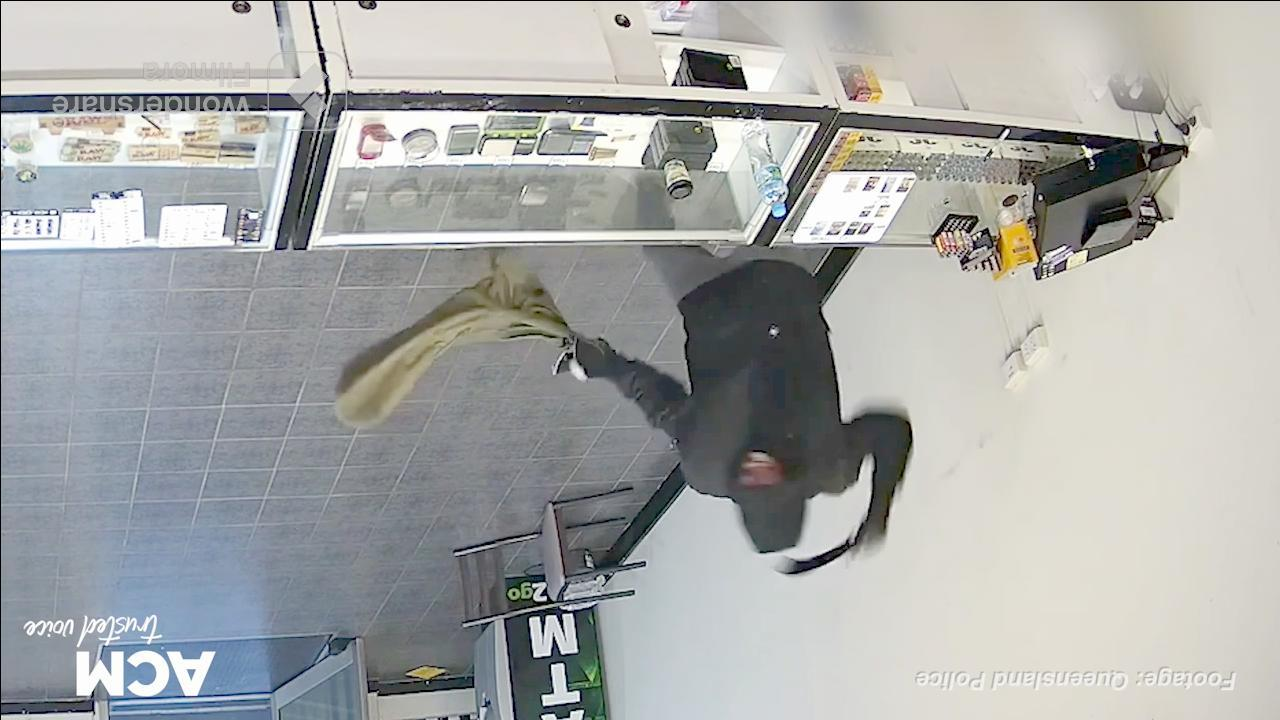melee: (772, 532, 863, 580)
